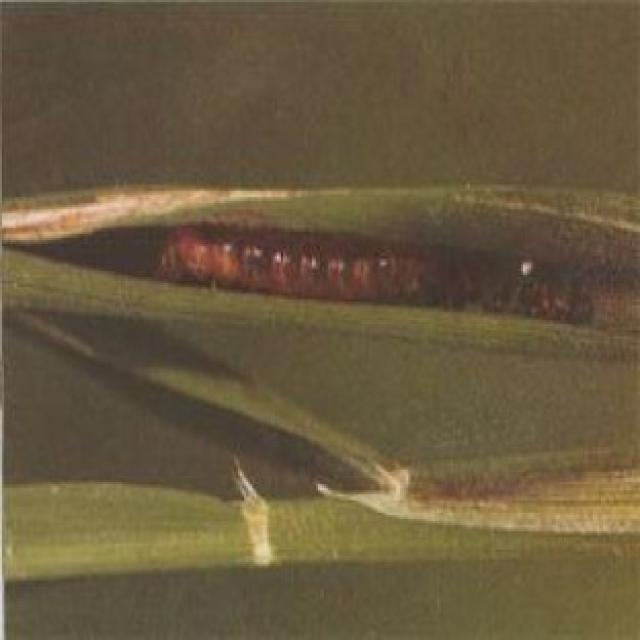rice leaf roller: (160, 222, 591, 326), (314, 451, 638, 531), (234, 457, 271, 564)
